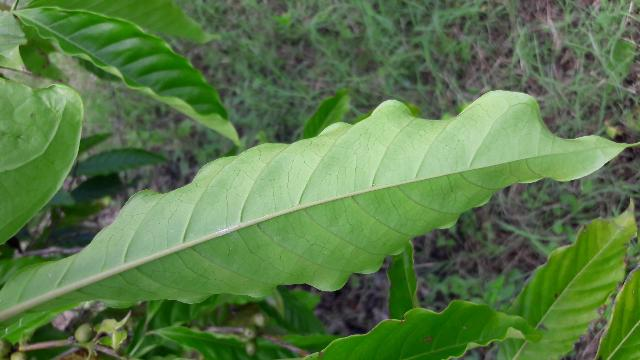healthy: (0, 88, 640, 329)
